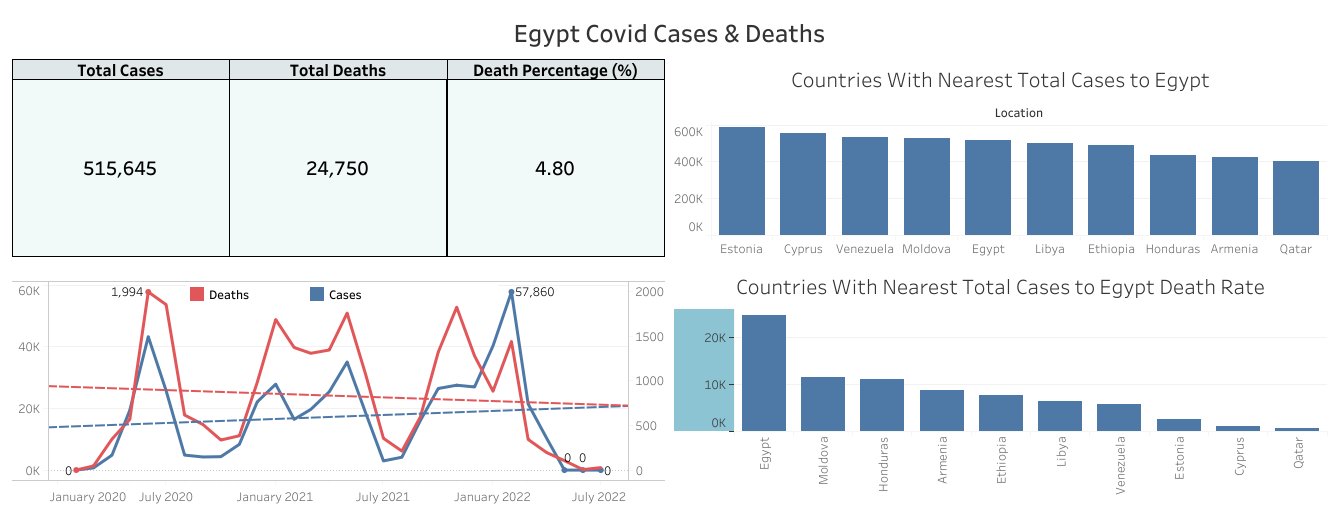

The dashboard page shown, as its layout file describes it:
{"tool":"tableau","page":{"name":"Dashboard 1","canvas":[1000,1000],"units":"permille","ordinal":0},"visuals":[{"type":"title","box":[7,17.1,986,88.7]},{"type":"worksheet","title":"Sheet 1","mark":"Automatic","box":[7,105.8,493,394.2]},{"type":"worksheet","title":"Sheet 4a","mark":"Automatic","rows":["highest_infection_per_country"],"cols":["location"],"box":[500,105.8,493,394.2]},{"type":"worksheet","title":"Sheet 2","mark":"Automatic","rows":["new_cases","new_deaths"],"cols":["date"],"box":[7,500,493,482.9]},{"type":"worksheet","title":"Sheet 4b","mark":"Automatic","rows":["total_death_count"],"cols":["location"],"box":[500,500,493,482.9]},{"type":"legend","title":"Sheet 2","param":"[federated.06k0lla173b29219ygfol0g003qt].[:Measure Names]","box":[140,543.7,231.8,38.4]}]}

Visuals, with their boxes on the dashboard's canvas, which has no fixed pixel size, in thousandths of its width and height (x1, y1, x2, y2). These are canvas units, not pixel positions in the 1338x522 screenshot, which may show the page scaled, cropped or inside an application window:
title: <region>7, 17, 993, 106</region>
"Sheet 1" worksheet: <region>7, 106, 500, 500</region>
"Sheet 4a" worksheet: <region>500, 106, 993, 500</region>
"Sheet 2" worksheet: <region>7, 500, 500, 983</region>
"Sheet 4b" worksheet: <region>500, 500, 993, 983</region>
"Sheet 2" legend: <region>140, 544, 372, 582</region>
